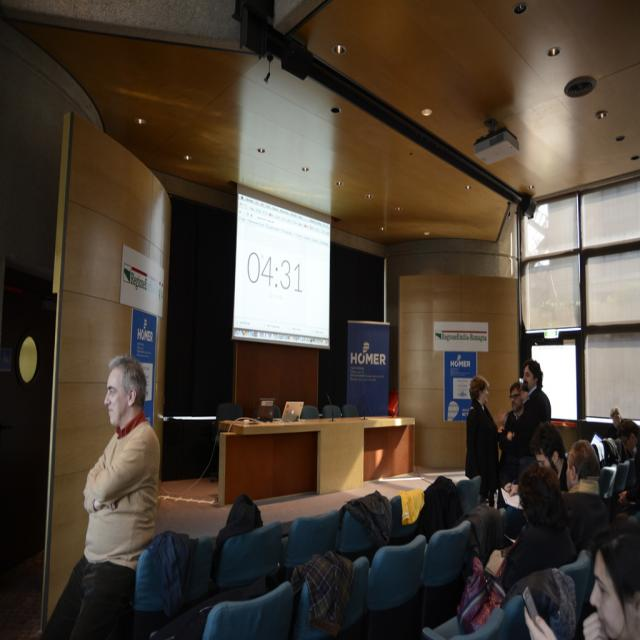chair: (291, 551, 371, 639), (365, 535, 426, 638), (420, 520, 472, 631), (201, 580, 293, 638), (284, 509, 340, 570), (456, 475, 481, 515)
desk: (207, 412, 432, 520)
person: (41, 354, 160, 636), (499, 466, 577, 595), (561, 438, 610, 554), (498, 375, 540, 489), (465, 374, 500, 507), (520, 359, 551, 430)
tv: (232, 184, 331, 348), (520, 256, 581, 336)
